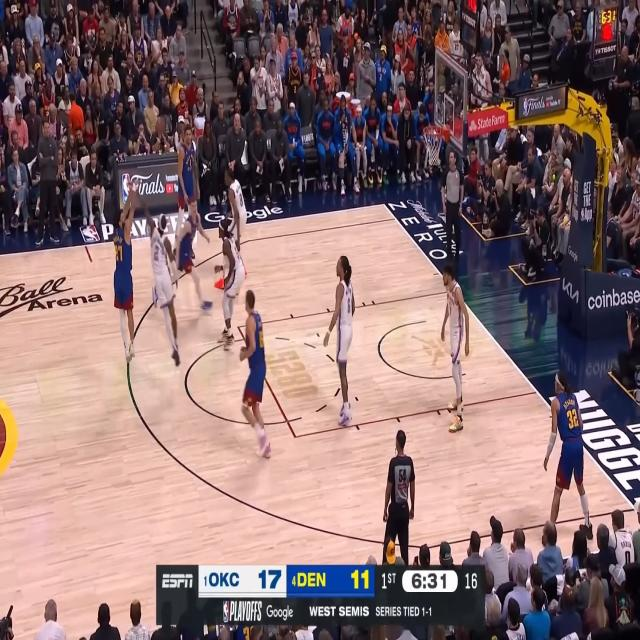ball: (156, 116, 168, 136)
number: (566, 406, 580, 429), (346, 296, 352, 315), (153, 244, 160, 260), (238, 192, 243, 207)
player: (541, 369, 595, 549), (151, 192, 213, 312), (322, 254, 356, 426), (239, 287, 272, 457), (440, 262, 470, 434), (214, 162, 252, 294), (172, 123, 201, 262), (216, 217, 246, 351)
player-jump-shot: (114, 177, 143, 364)
player-shot-block: (133, 186, 182, 365)
referee: (382, 429, 416, 564), (440, 150, 465, 263)
rim: (421, 124, 445, 139)
